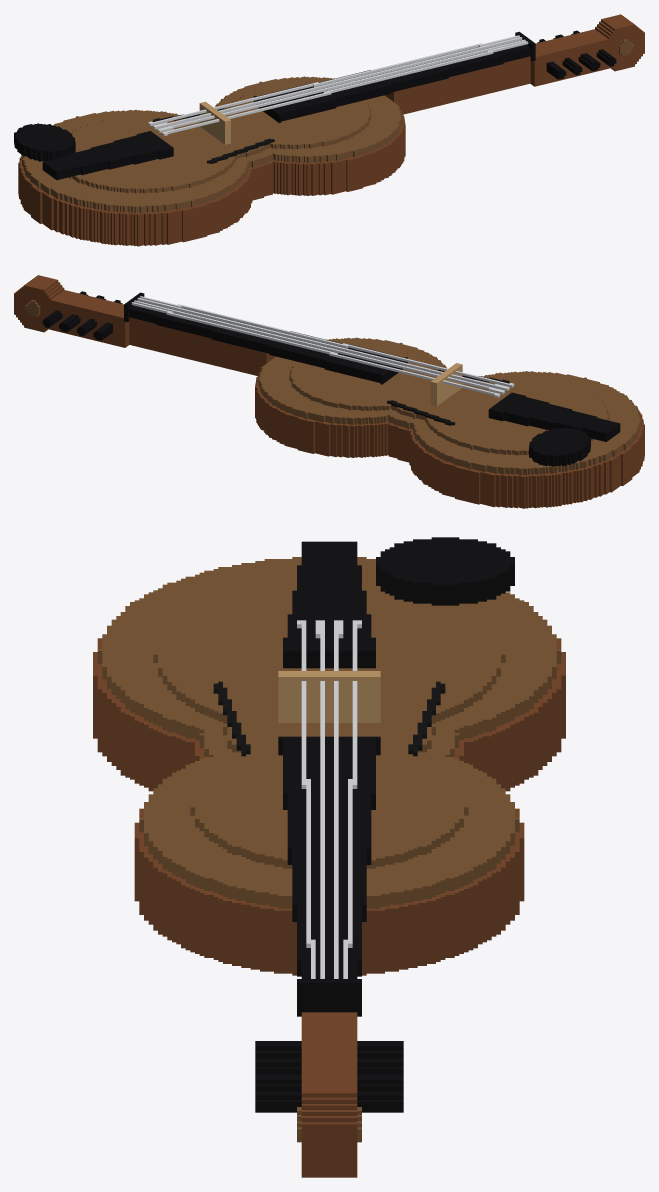
File: violin.glb
3 renders of one model, top to bottom at view 1: azimuth 30°, elevation 25°; view 2: azimuth 150°, elevation 25°; view 3: azimuth 270°, elevation 25°, orthographic. The views are drawn at different scales.
Visible parts, largest first — view 1: violin:compound; view 2: violin:compound; view 3: violin:compound.
Boxes of the visible parts, box(x1,y1,x2,y2) form: violin:compound: box(14, 14, 644, 246); violin:compound: box(14, 275, 644, 508); violin:compound: box(93, 537, 565, 1177).
Size of the model in its own units: 0.6 by 0.062 by 0.204.
